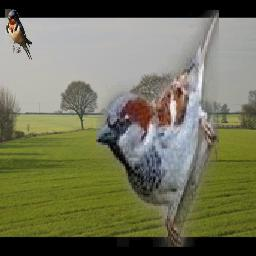Sparrow: (97, 11, 220, 248)
Swallow: (6, 10, 33, 61)
